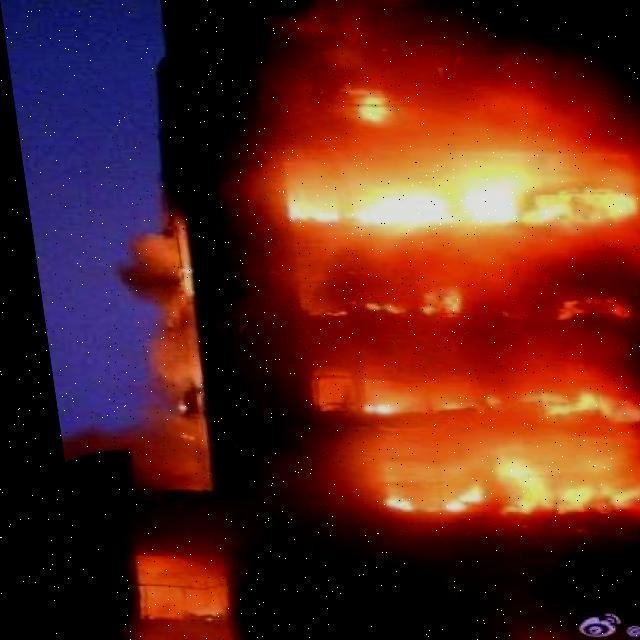Fire: (258, 139, 639, 535), (134, 206, 204, 489), (100, 534, 226, 634), (328, 84, 410, 130)
